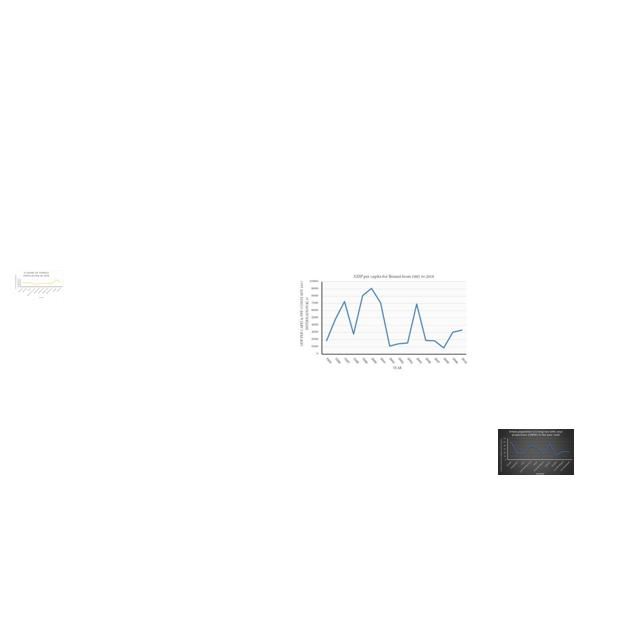Graph: (298, 271, 469, 372), (498, 429, 574, 475), (14, 270, 64, 300)
